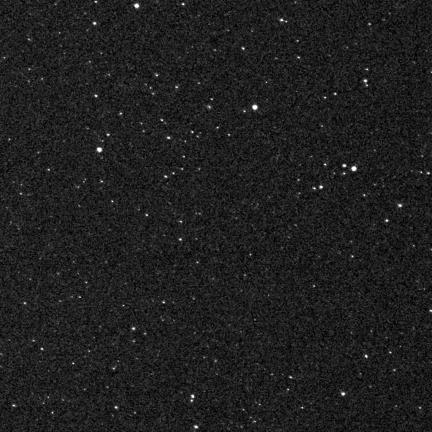blob: (97, 147, 103, 153), (351, 166, 356, 171), (253, 105, 257, 110), (135, 4, 139, 8)
